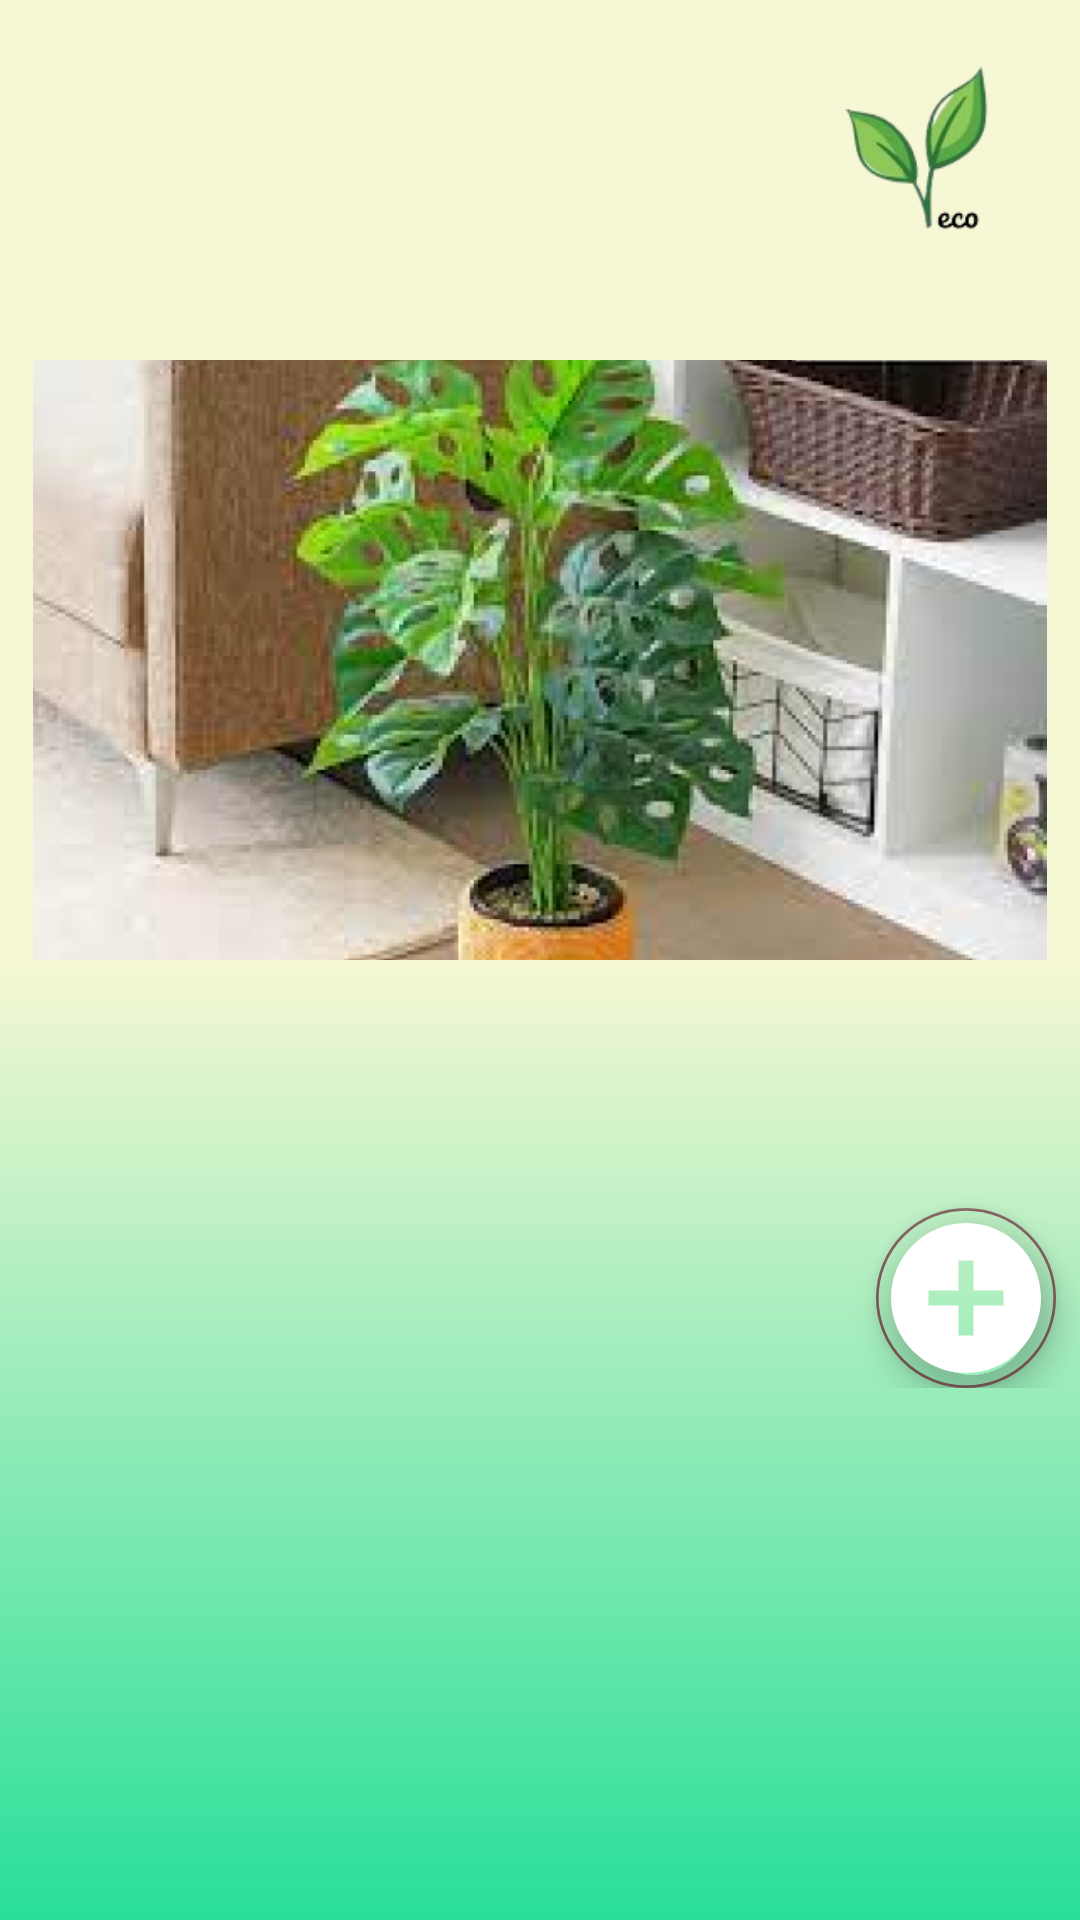

Screen size 1080x1920. Icon name, then its center in pixels as point (x, y):
add circle full: point (966, 1298)
